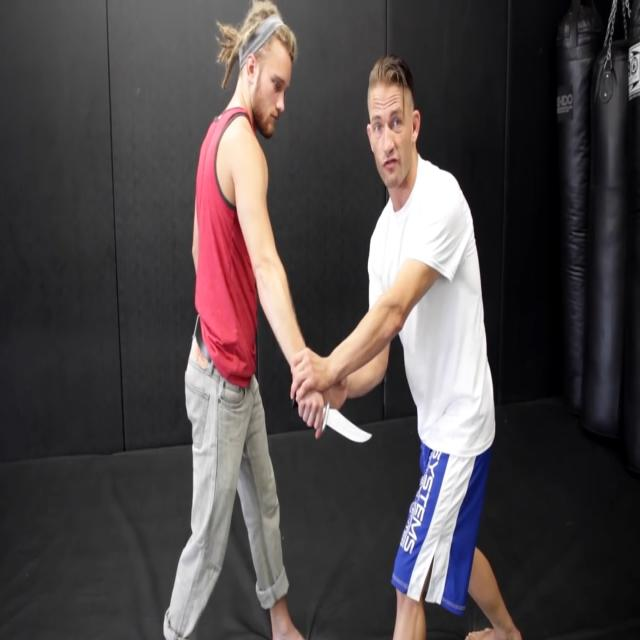knife: (323, 400, 376, 455)
